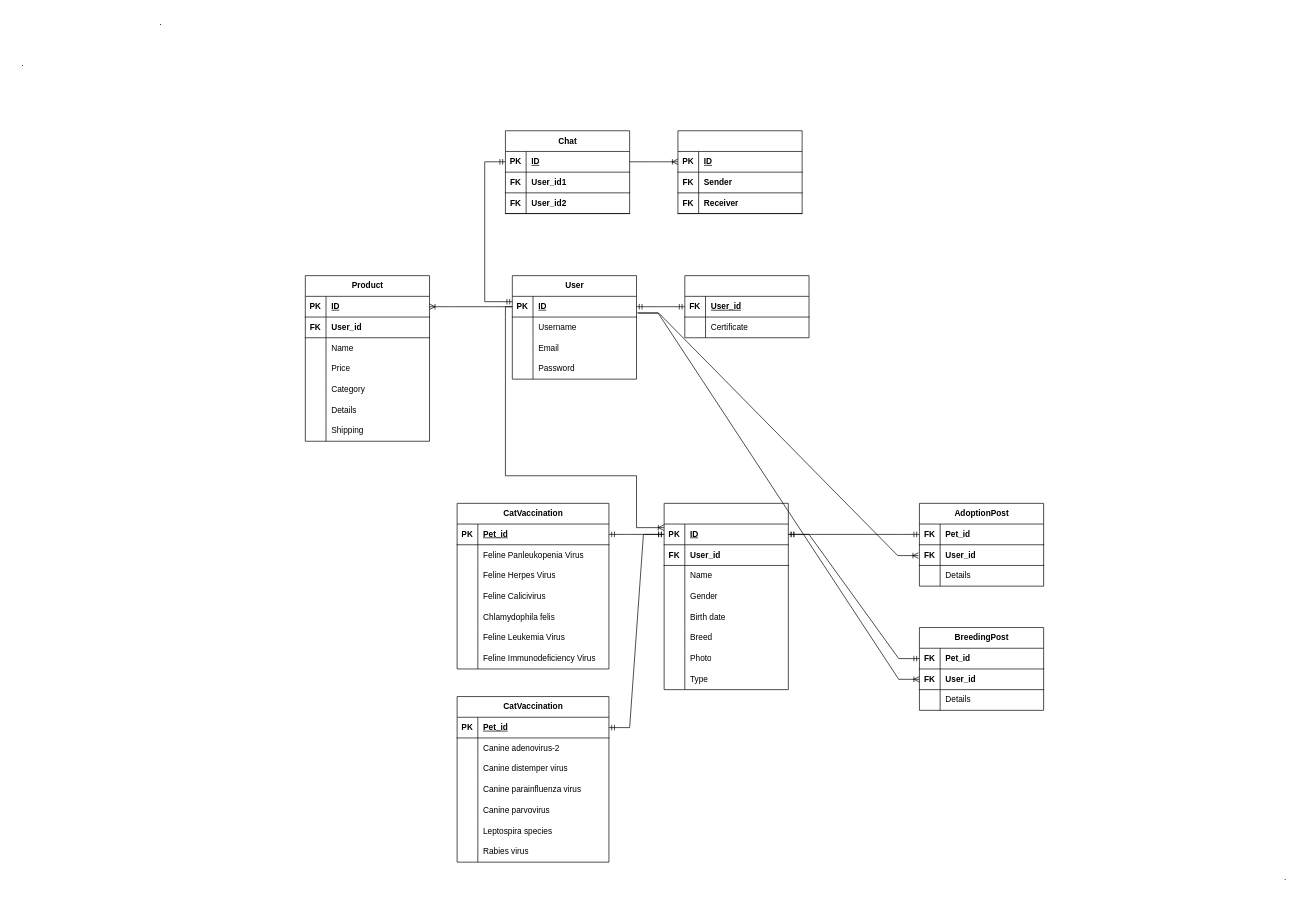
This 1307x900 diagram has some shape labels left out. The box of each missing label's shape, as (x1, y1, x2, y2) in pixels:
Message: (677, 130, 802, 214)
Pet: (663, 503, 788, 690)
Vet: (684, 275, 809, 338)
